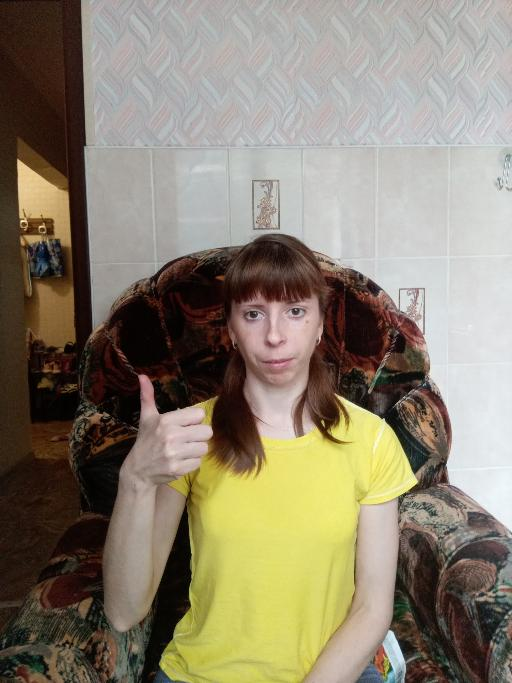like: (123, 372, 215, 486)
